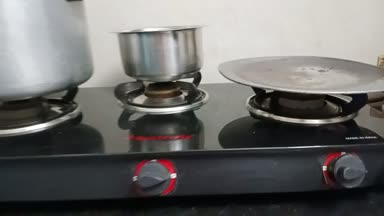flame_gas_off: (268, 92, 378, 189), (121, 81, 197, 197)
